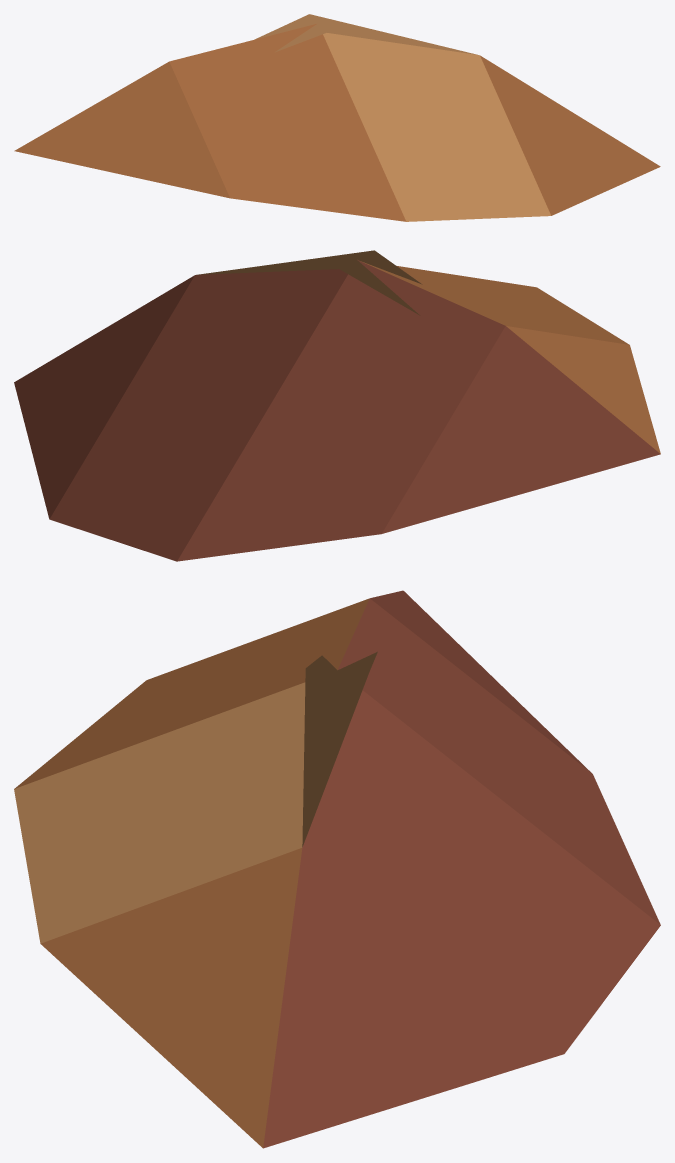
The model's file is apple_leaf.glb.
3 views of the same model, one above another, from view 1: azimuth 30°, elevation 25°; view 2: azimuth 150°, elevation 25°; view 3: azimuth 270°, elevation 25° (orthographic). The views are drawn at different scales.
Parts seen in each view (by area): view 1: apple_leaf; view 2: apple_leaf; view 3: apple_leaf.
Part boxes in pixels (x1=…): apple_leaf: x1=14, y1=14, x2=660, y2=221; apple_leaf: x1=14, y1=250, x2=660, y2=561; apple_leaf: x1=14, y1=590, x2=660, y2=1148.
Size of the model in its own units: 0.173 by 0.0556 by 0.1206.
